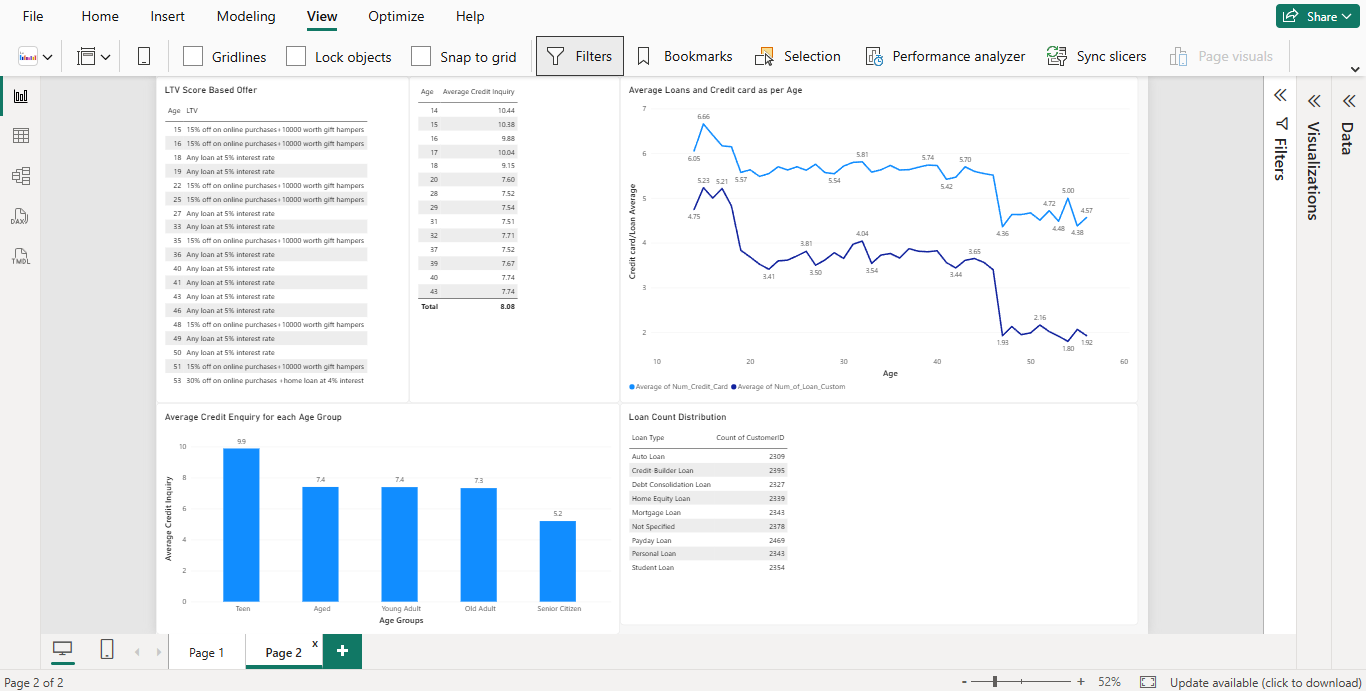

The page's visual inventory and layout, read from the dashboard file:
{"tool":"powerbi","page":{"name":"Page 2","canvas":[1920,1080],"ordinal":1},"visuals":[{"type":"clusteredColumnChart","title":"Average Credit Enquiry for each Age Group","fields":{"Category":["combined_df.Age Groups"],"Y":["Table1.text_to_number"]},"box":[0,632.5,897.5,447.5],"z":0},{"type":"tableEx","fields":{"Values":["combined_df.Age","Table1.text_to_number"]},"box":[490,0,407.5,632.5],"z":1},{"type":"lineChart","title":"Average Loans and Credit card as per Age","fields":{"Category":["combined_df.Age"],"Y":["Avg(combined_df.Num_Credit_Card)","Avg(combined_df.Num_of_Loan_Custom)"]},"box":[897.5,0,1002.5,632.5],"z":2},{"type":"tableEx","title":"LTV Score Based Offer","fields":{"Values":["combined_df.Age","Table1.AvgCreditScore"]},"box":[0,0,490,632.5],"z":3},{"type":"tableEx","title":"Loan Count Distribution","fields":{"Values":["LoanTypeTable.Loan Type","LoanTypeTable.CustomerID"]},"box":[897.5,632.5,1002.5,430],"z":4}]}

Visuals, with their boxes on the page's 1920x1080 design canvas (x1, y1, x2, y2). These are canvas units, not pixel positions in the 1366x691 screenshot, which may show the page scaled, cropped or inside an application window:
"Average Credit Enquiry for each Age Group" clusteredColumnChart: <bbox>0, 632, 898, 1080</bbox>
tableEx - combined_df.Age x Table1.text_to_number: <bbox>490, 0, 898, 632</bbox>
"Average Loans and Credit card as per Age" lineChart: <bbox>898, 0, 1900, 632</bbox>
"LTV Score Based Offer" tableEx: <bbox>0, 0, 490, 632</bbox>
"Loan Count Distribution" tableEx: <bbox>898, 632, 1900, 1062</bbox>
